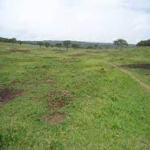Uncultivated: (4, 49, 143, 146)
